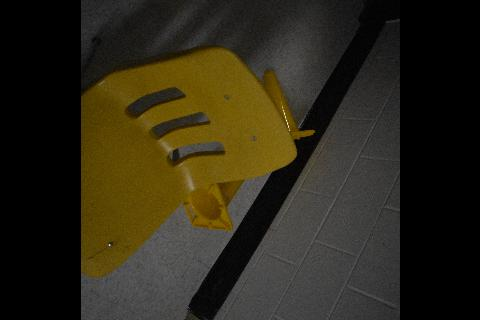cone: (262, 70, 314, 140), (182, 179, 244, 229)
